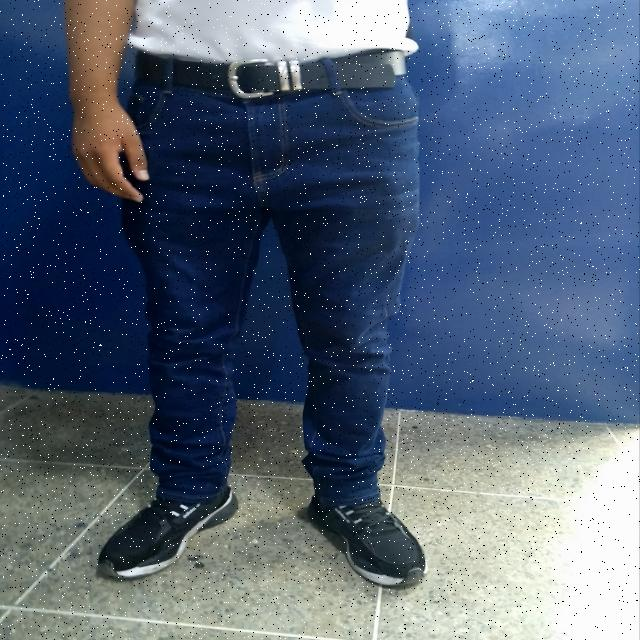pantalon_oscuro: (120, 76, 422, 508)
